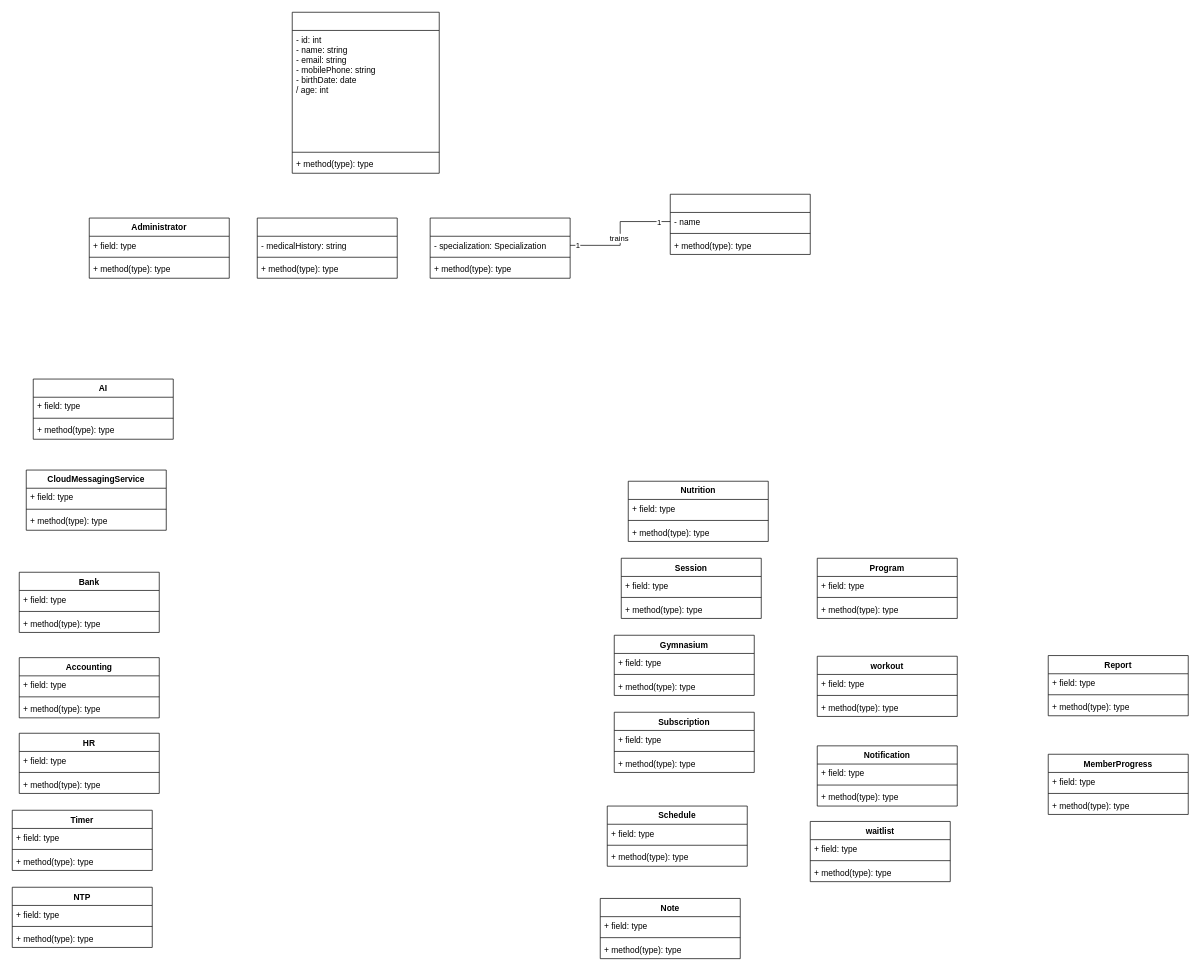
Some shapes in this 1201 by 973 pixel diagram are drawn without their labels. The shapes that lost their labels are listed below. From the top down, each one's box as (x1, y1, x2, y2) in pixels, then its label:
(292, 12, 439, 173): User
(670, 194, 810, 254): Specialization
(257, 217, 397, 278): Member
(429, 217, 570, 278): Coach
